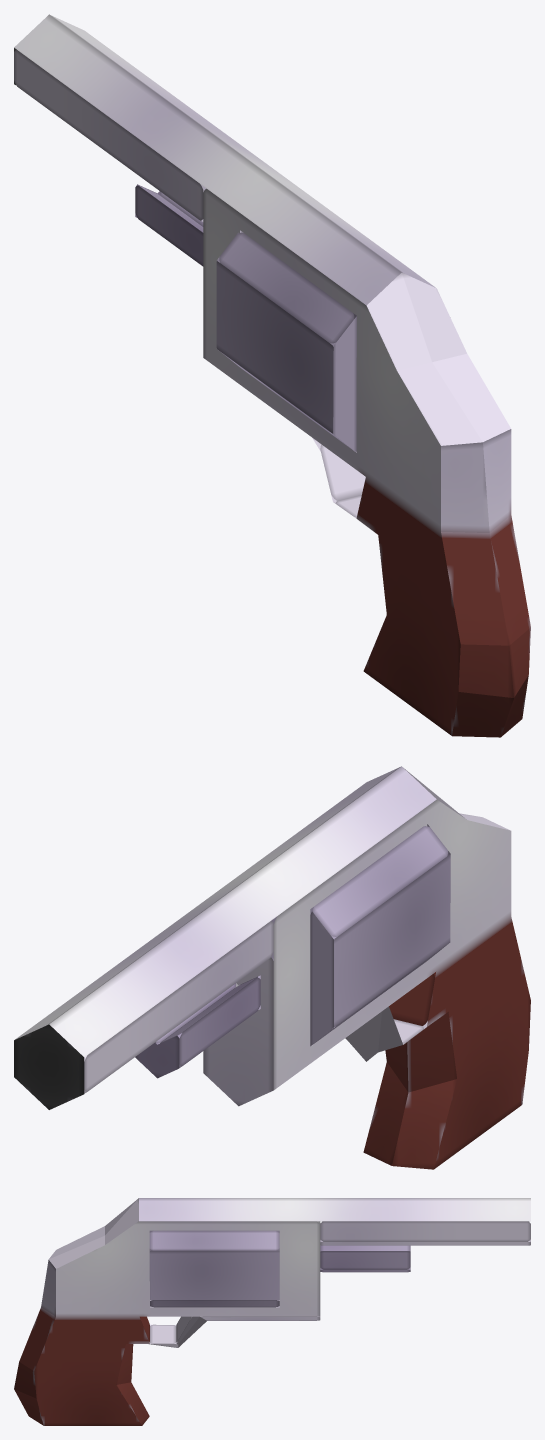
Rendered from RevolverModel 1.fbx.
3 views of the same model, one above another, from view 1: azimuth 30°, elevation 25°; view 2: azimuth 150°, elevation 25°; view 3: azimuth 270°, elevation 25° (orthographic). The views are drawn at different scales.
Visible parts, largest first — view 1: cuboid; view 2: cuboid; view 3: cuboid.
Boxes of the visible parts, x1,y1,x2,y2 form: cuboid: (14,14,530,737); cuboid: (14,766,530,1169); cuboid: (14,1198,530,1425).
Bounding box in the file's own units: 15.63 × 50 × 107.
Materials: 1 (1 with a texture image).
